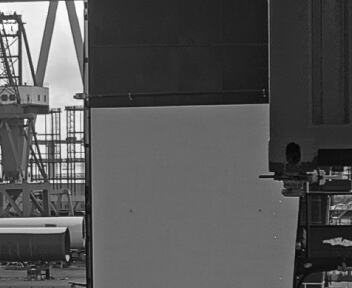twist_lock_1: (265, 167, 316, 210)
